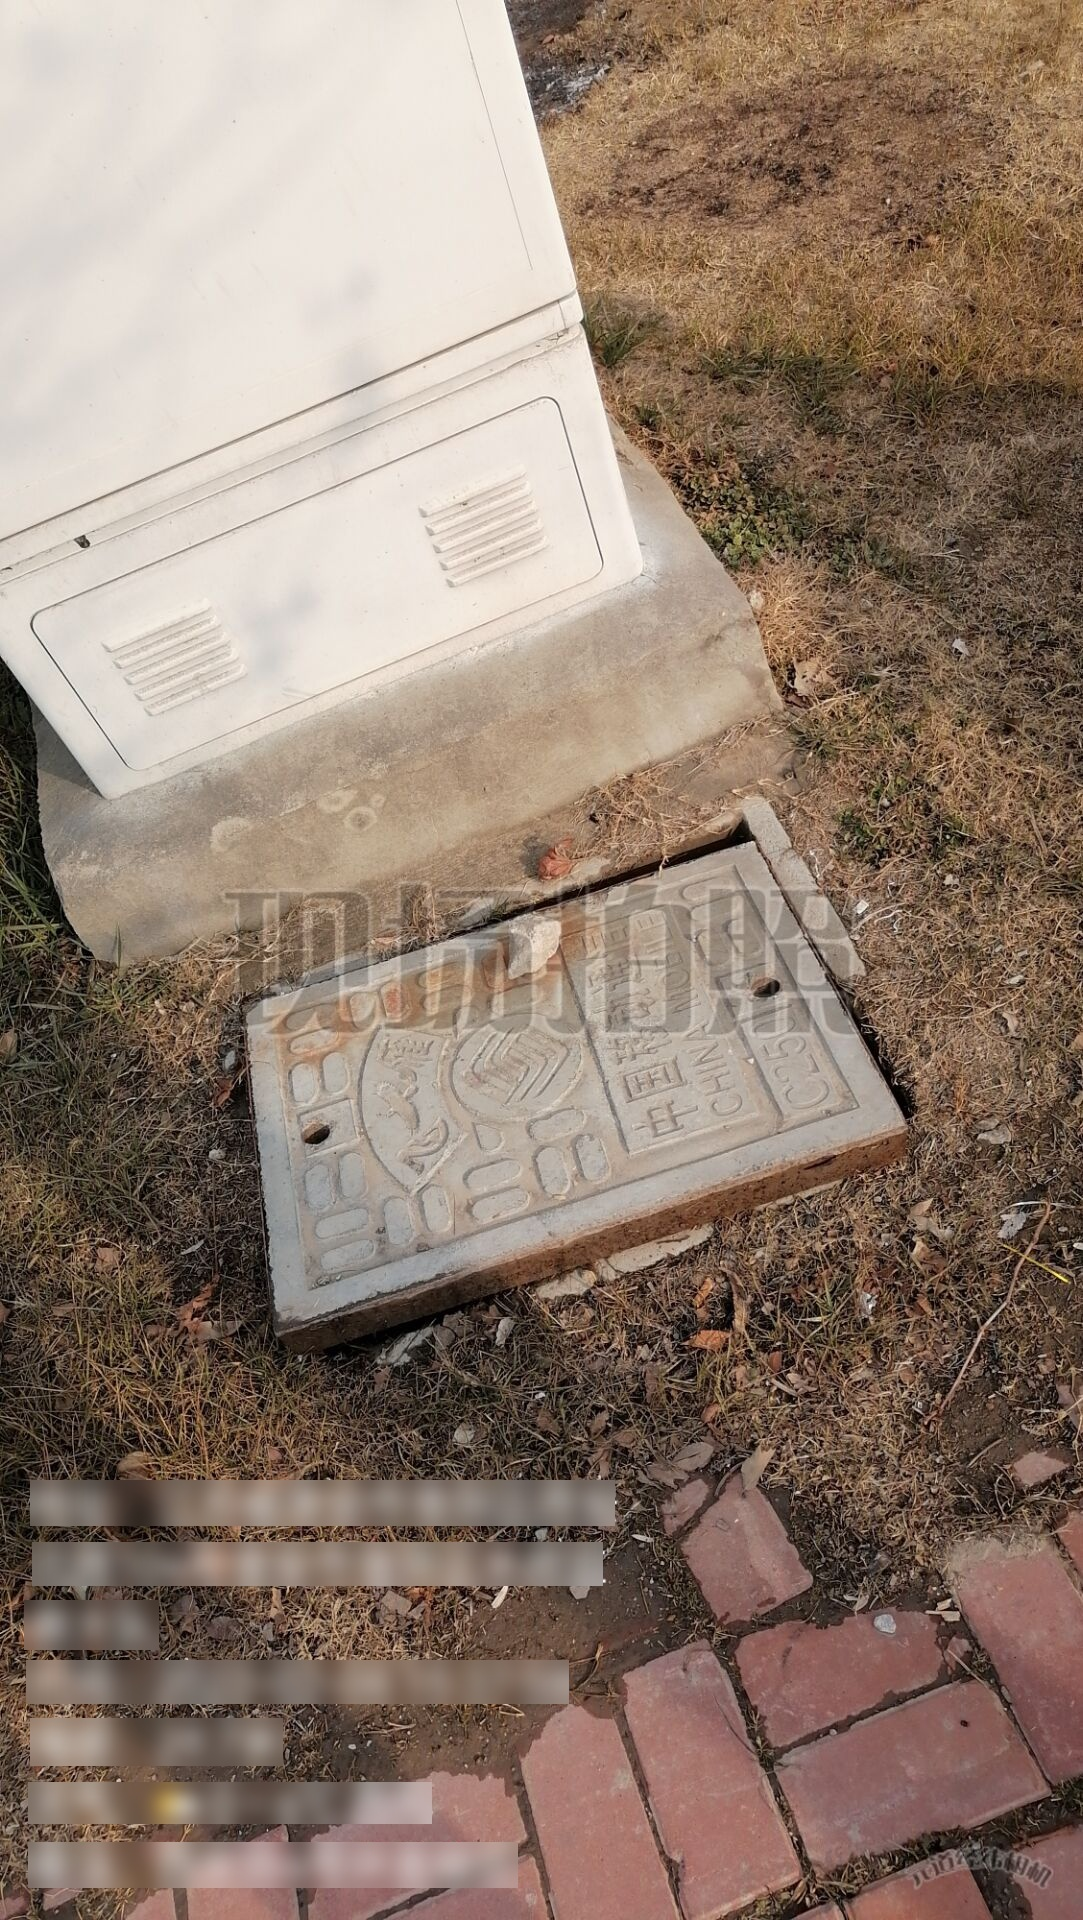uncovered: (243, 796, 908, 1335)
